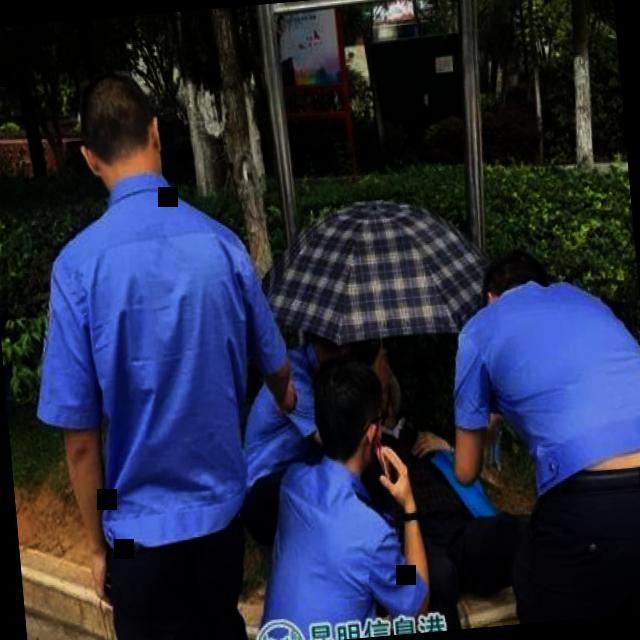Fall-Detected: (352, 364, 554, 636)
